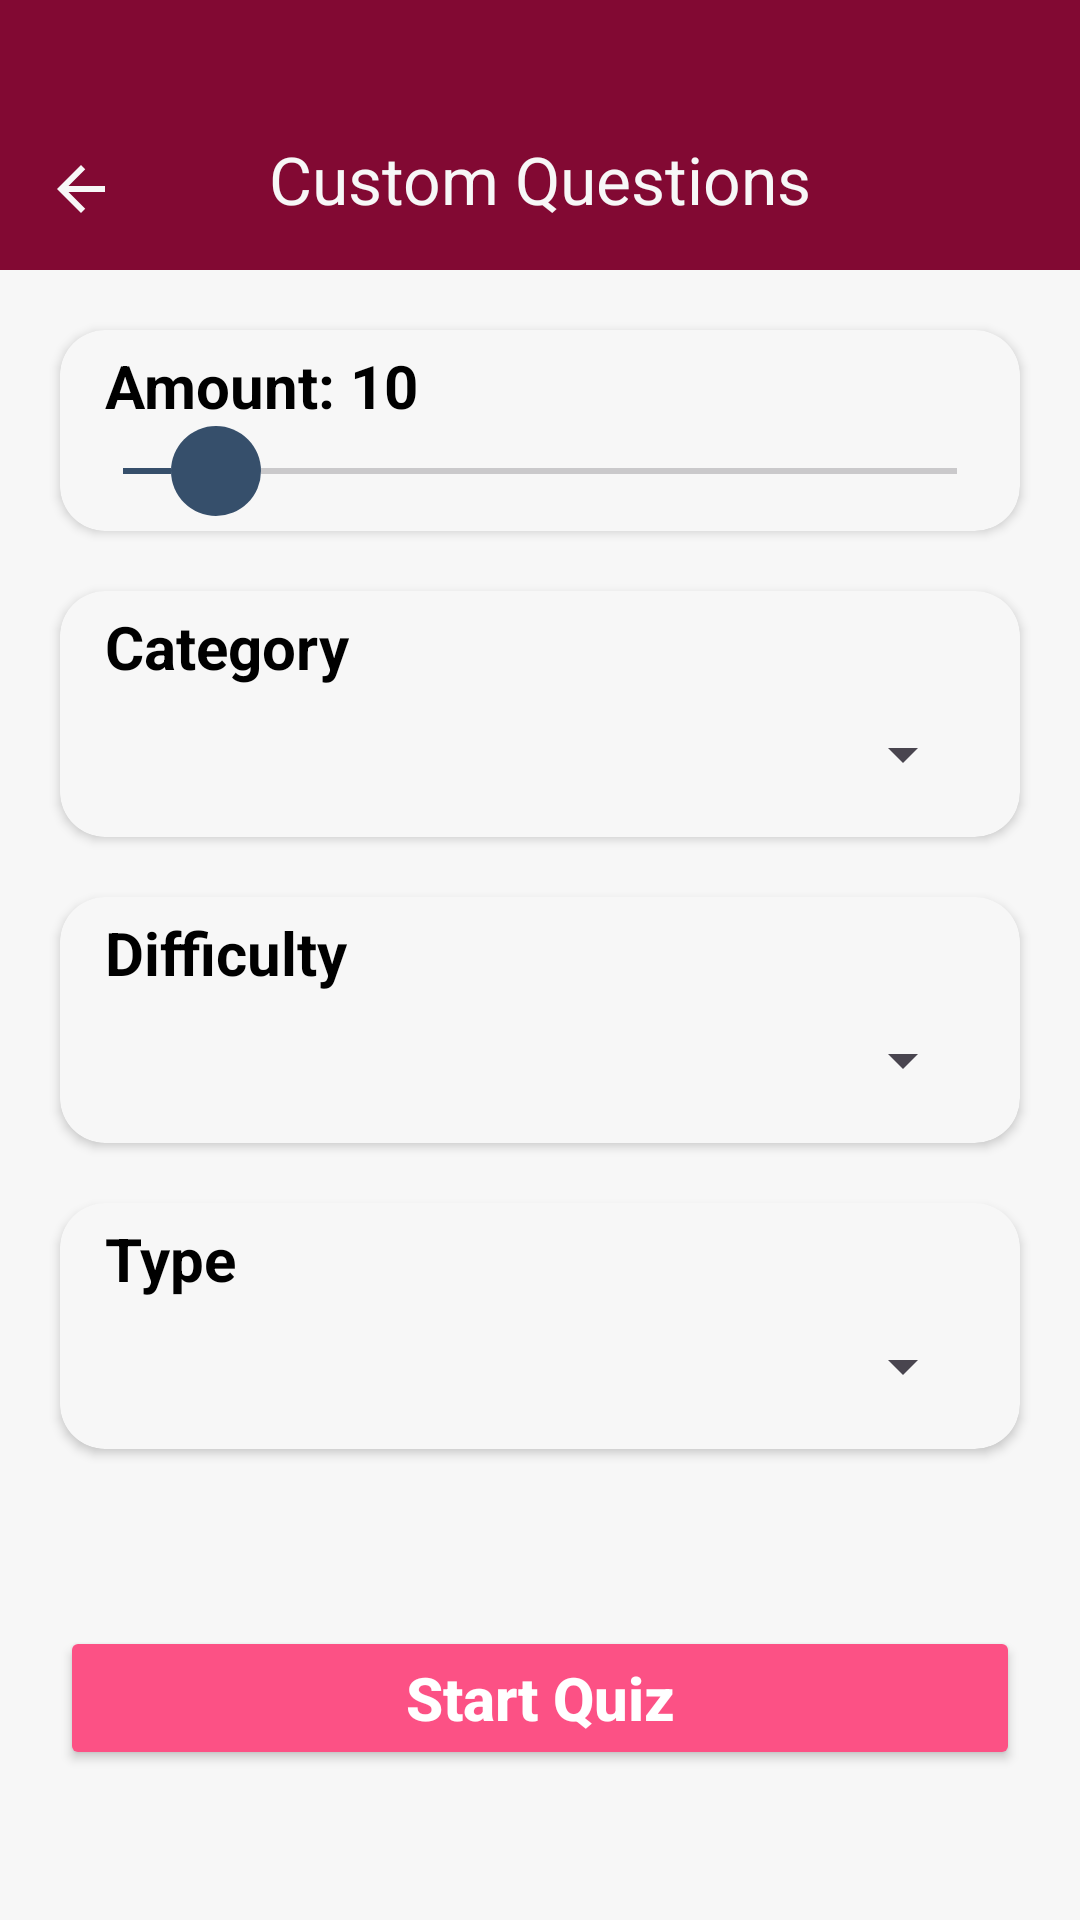

Icons on this 1080 x 1920 Android screen, each with its box as (x1=x1, y1=y1, x2=x2, y2=y2):
arrow back: (x1=57, y1=165, x2=105, y2=213)
